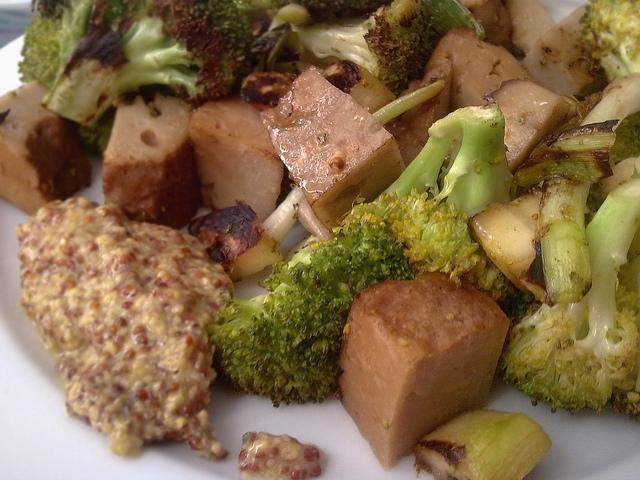broccoli: (204, 104, 516, 408), (494, 193, 638, 414), (268, 1, 440, 99), (30, 0, 151, 128), (580, 0, 640, 83), (18, 15, 62, 90), (289, 0, 391, 24)
